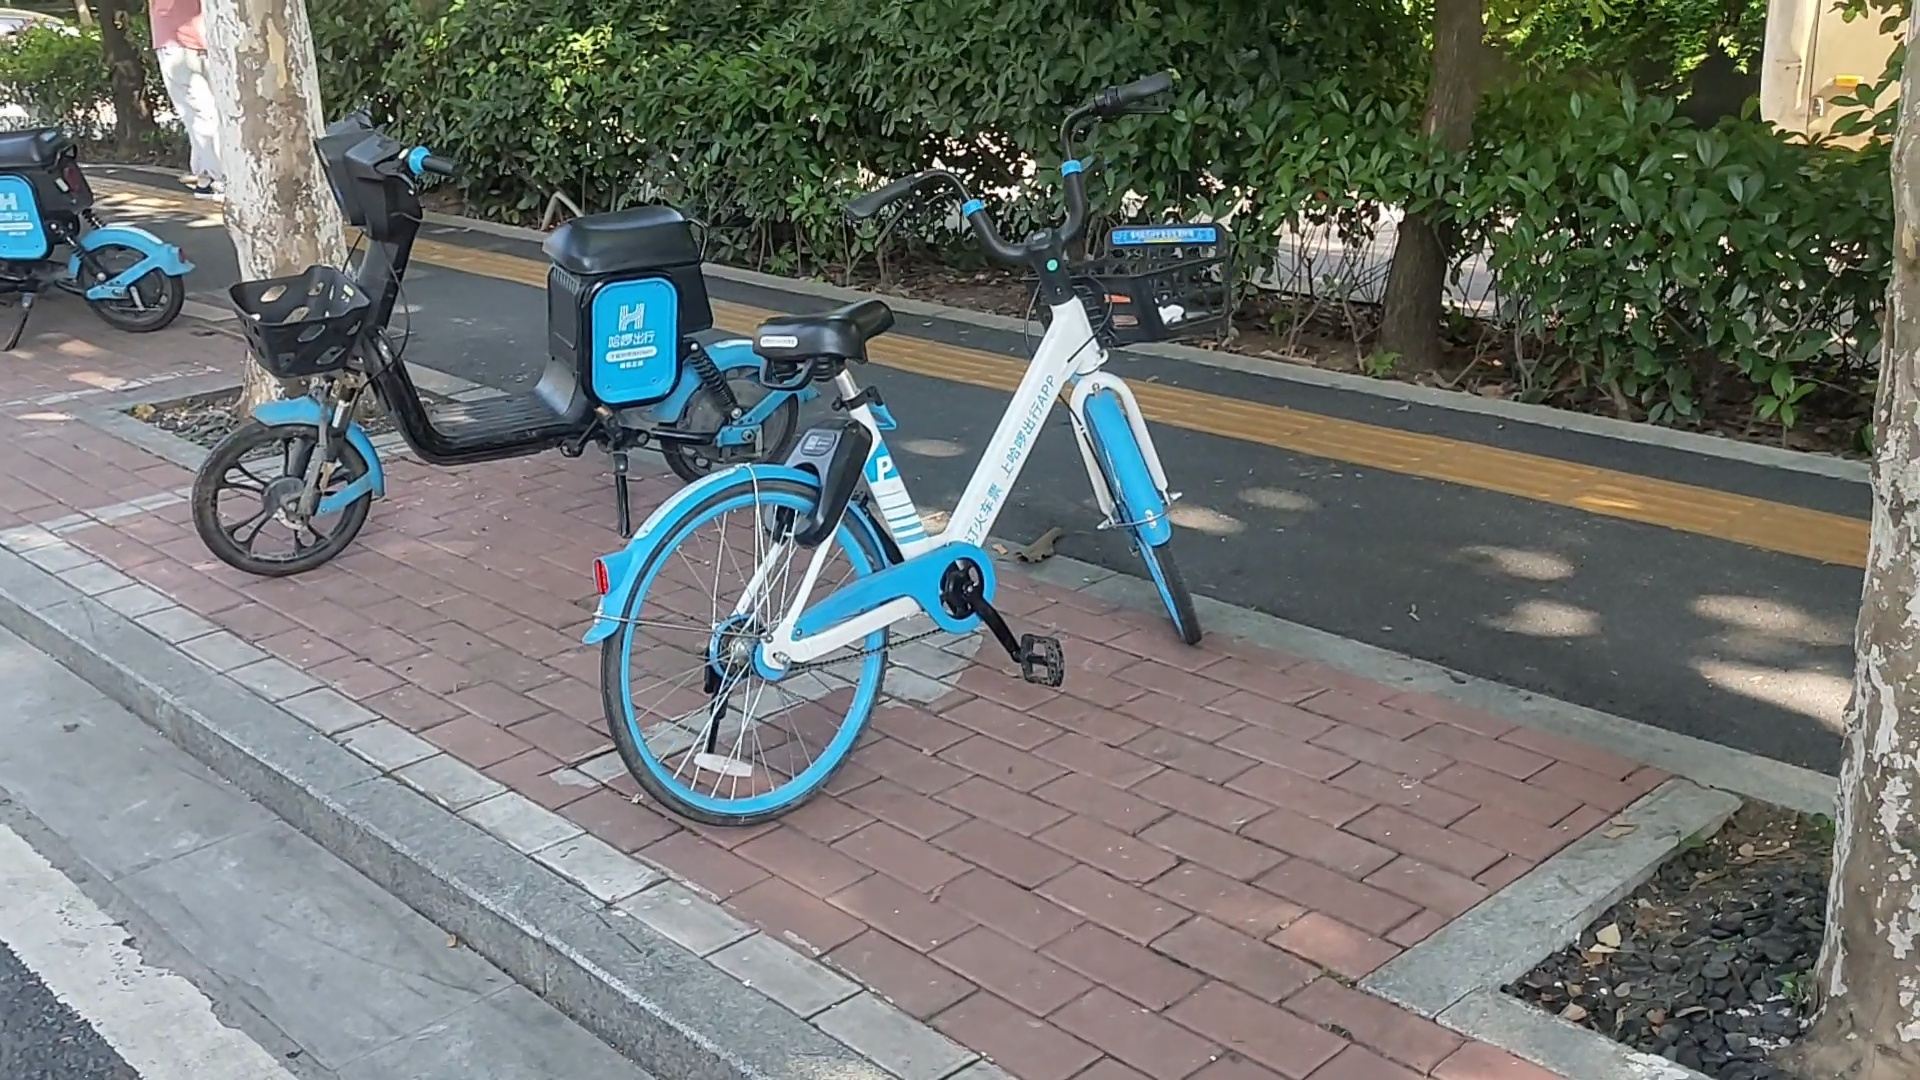non-vehicle: (576, 128, 1216, 837), (179, 119, 873, 589), (0, 83, 196, 353)
